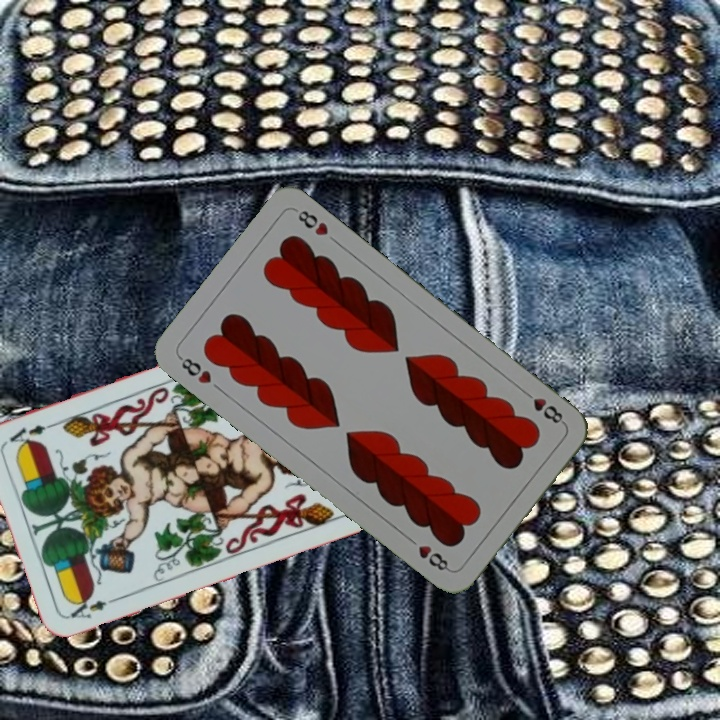EA: (66, 592, 123, 622)
H8: (518, 386, 568, 426), (174, 352, 215, 387)
